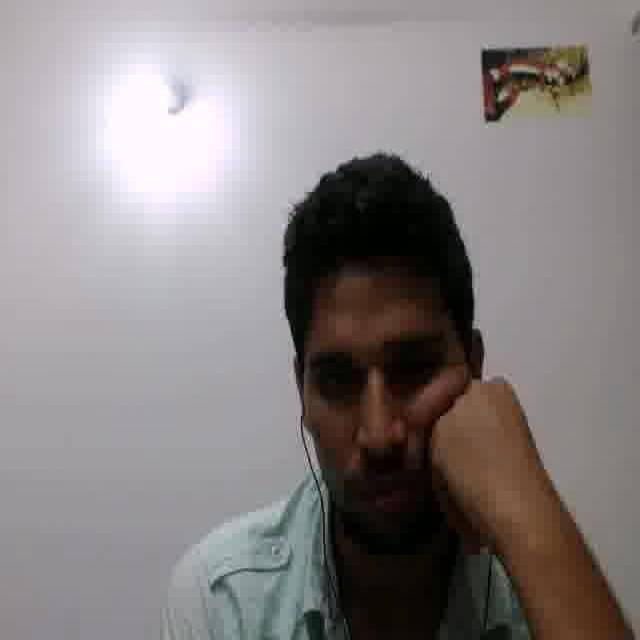Boredom: (302, 277, 462, 535)
